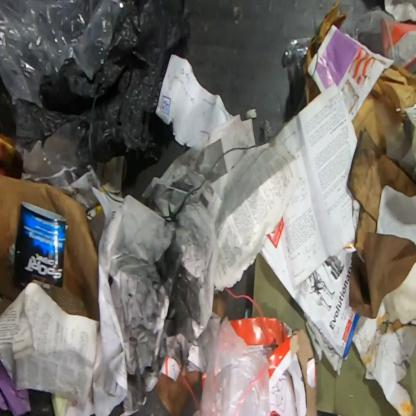cardboard: (252, 252, 401, 414), (0, 173, 100, 326), (346, 129, 415, 319), (229, 318, 317, 416), (350, 60, 415, 157), (302, 0, 348, 105)
rigid_plastic: (355, 9, 415, 77), (283, 18, 318, 114)
soft_plastic: (2, 0, 192, 163), (0, 0, 124, 104), (198, 313, 270, 416), (15, 122, 80, 183)
